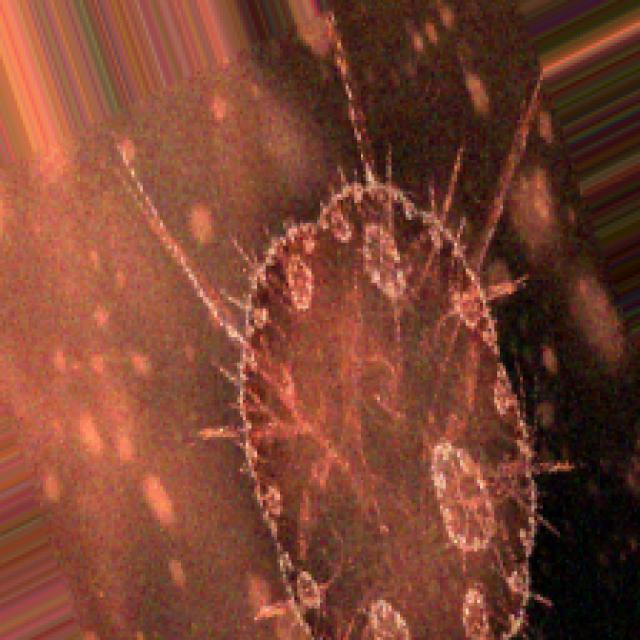Amoeba: (91, 74, 640, 640)
